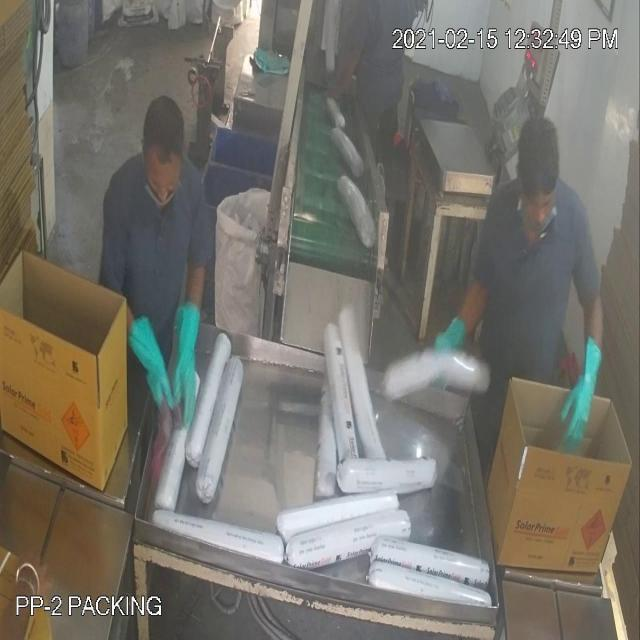Gloves: (40, 63, 586, 399)
